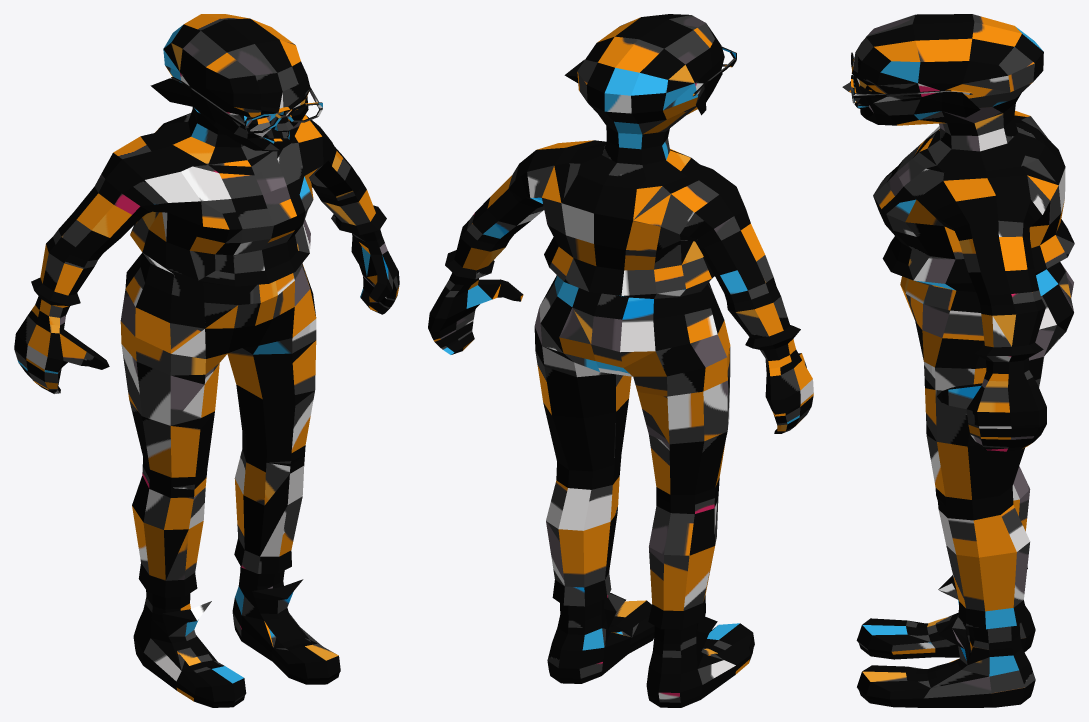
The model's file is punkgirltexture.gltf.
The picture shows the model from 3 angles, left to right: view 1: azimuth 30°, elevation 25°; view 2: azimuth 150°, elevation 25°; view 3: azimuth 270°, elevation 25°; orthographic projection. The views are drawn at different scales.
Visible parts, largest first — view 1: Body; view 2: Body; view 3: Body.
Part boxes in pixels (bbox=[...]): Body: bbox=[14, 14, 399, 707]; Body: bbox=[428, 14, 813, 707]; Body: bbox=[842, 14, 1074, 707].
Bounding box in the file's own units: 1.62 × 2.73 × 0.8854.
Materials: 1 (1 with a texture image).
